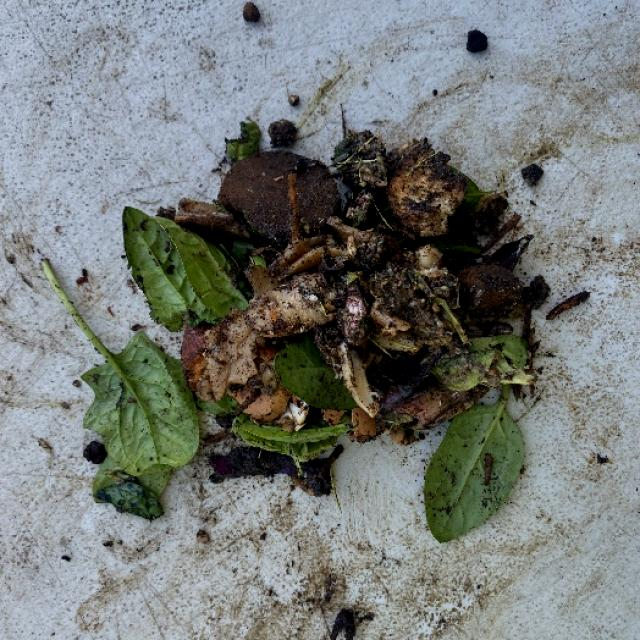organic: (65, 71, 572, 516), (416, 394, 530, 546), (199, 139, 344, 246), (368, 139, 471, 251), (365, 263, 460, 350), (112, 328, 167, 422), (453, 261, 529, 320), (331, 130, 391, 189)
